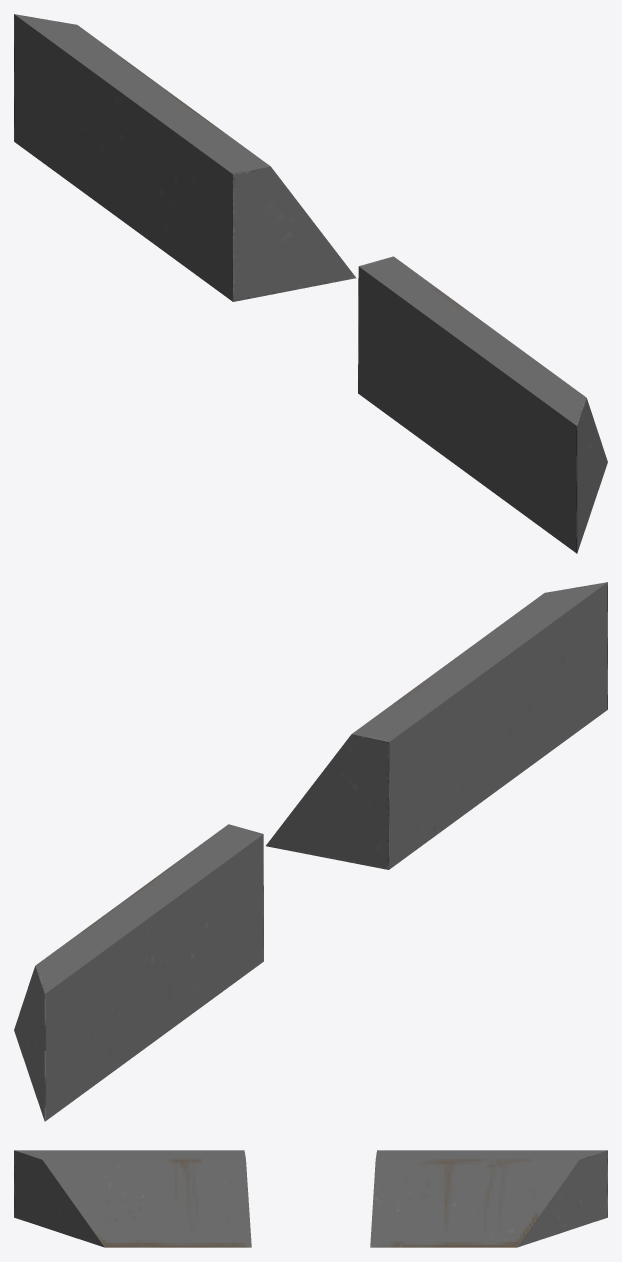
Rendered from Doorway_Horizontal.fbx.
3 views of the same model, one above another, from view 1: azimuth 30°, elevation 25°; view 2: azimuth 150°, elevation 25°; view 3: azimuth 270°, elevation 25° (orthographic). The views are drawn at different scales.
Visible parts, largest first — view 1: Wall_Door_East; view 2: Wall_Door_East; view 3: Wall_Door_East.
Boxes of the visible parts, x1=… form: Wall_Door_East: x1=14, y1=14, x2=607, y2=553; Wall_Door_East: x1=14, y1=582, x2=607, y2=1121; Wall_Door_East: x1=14, y1=1150, x2=607, y2=1247.
Bounding box in the file's own units: 288 × 300 × 2400.
1 material, 1 textured.
